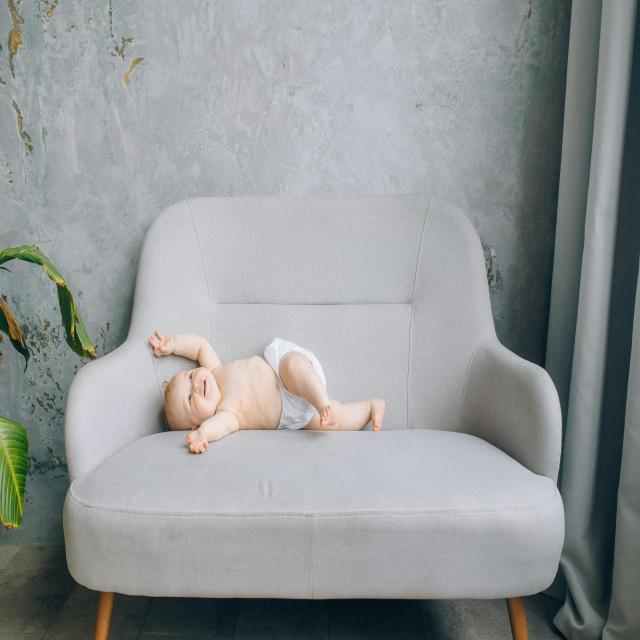lie: (142, 337, 387, 467)
